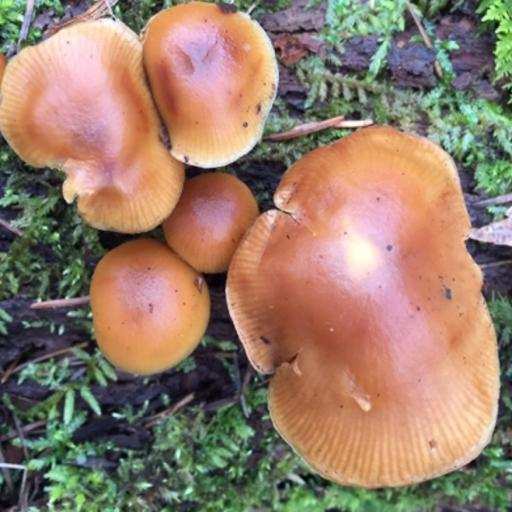mushroom: (273, 132, 500, 486), (4, 4, 276, 289)
